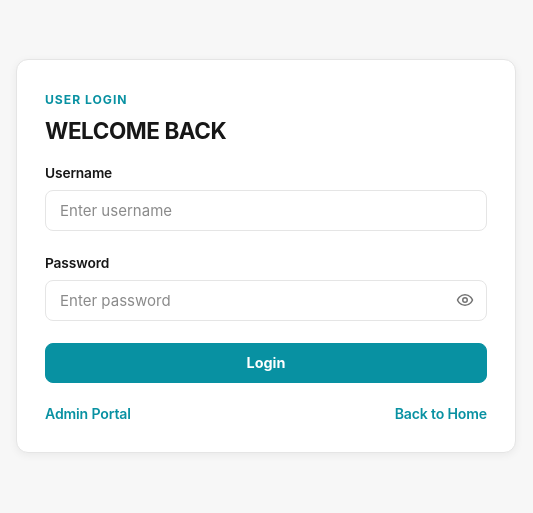
Test: User and Admin Login Integration › handles backend HTTP 500 without leaking server stack traces
The image size is (533, 513).
In the field with placeholder "Enter username": (266, 211) [45, 190, 487, 231], type "validuser"
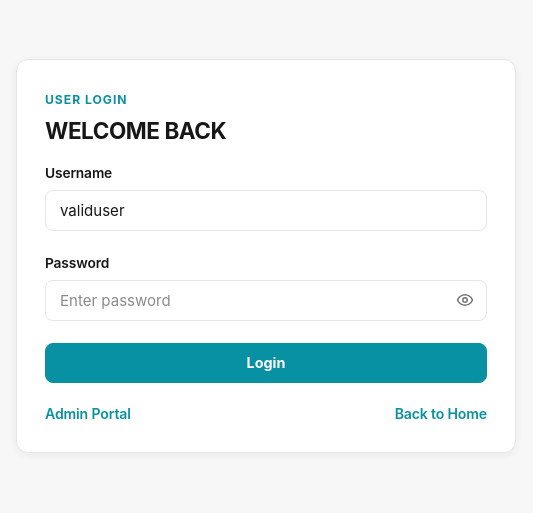
In the password field with placeholder "Enter password": (266, 300) [45, 280, 487, 321], type "password123"
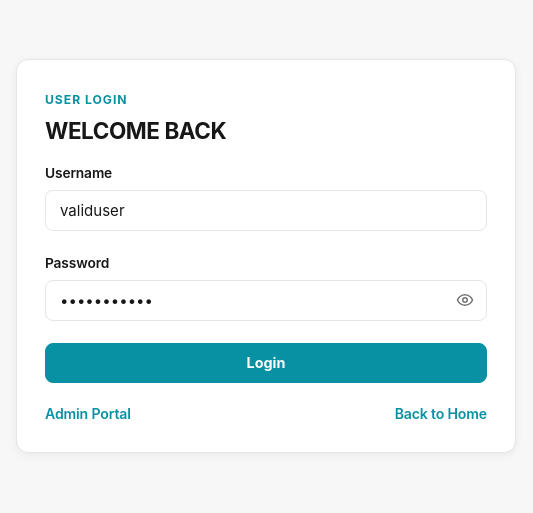
Click the button "Login": (266, 363) [45, 343, 487, 383]
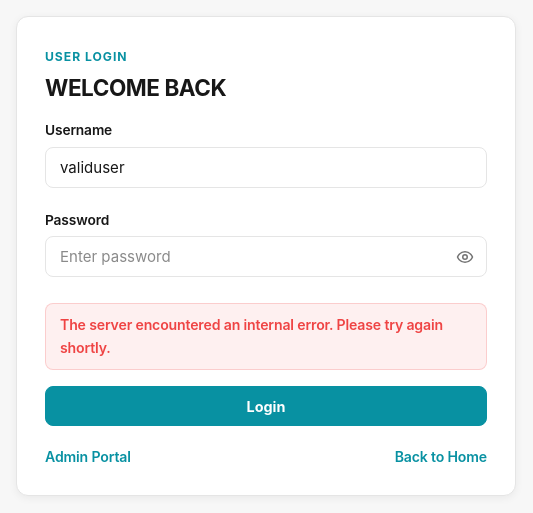
Result: the text "The server encountered an internal error. Please try again shortly." is shown at [45, 303, 487, 370]
